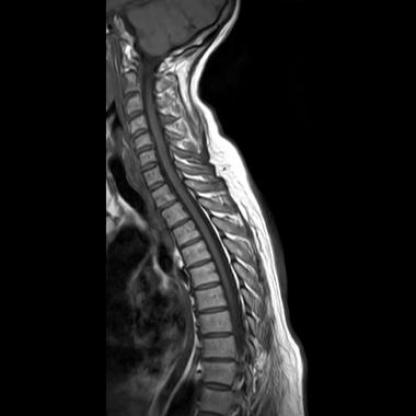Disc Bulgerotation: (139, 158, 162, 172)
